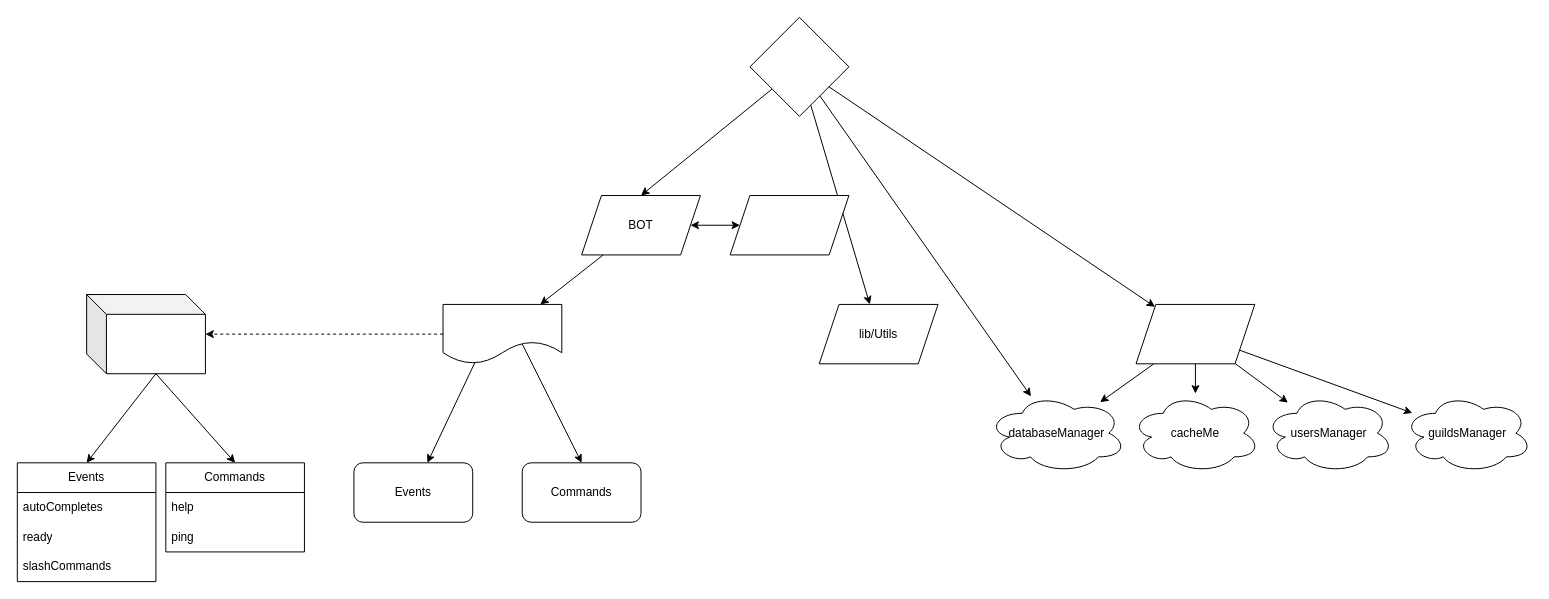
Image size: 1549x599. Some labels were removed from this diagram. Each missing label, with the centre of its shape:
BotSettings: point 789,225
INDEX: point 799,66
m_init: point 145,334
MODULES: point 502,333
Services: point 1195,333
